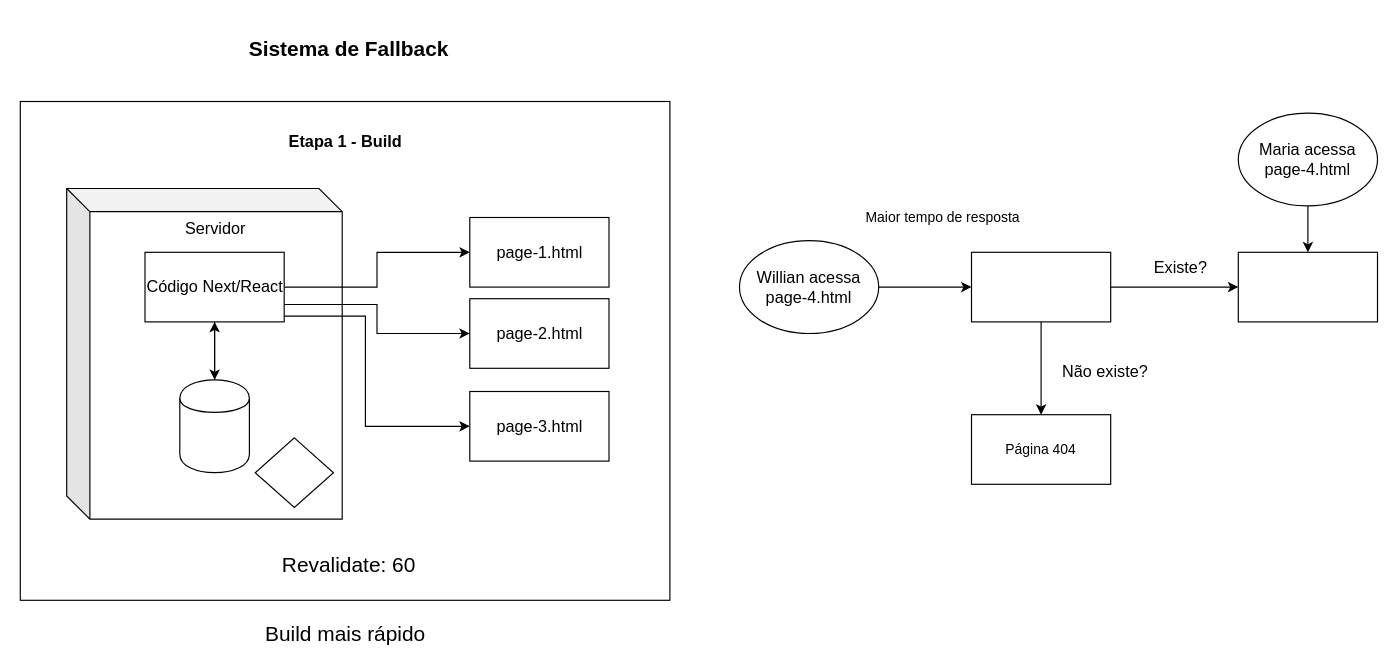
Image size: 1398x668. Some labels were removed from this diagram. The centre of each missing label's shape, as x and y in pixels:
"Banco de Dados" goes at (x=214, y=426).
"Dados da page-4" goes at (x=294, y=472).
"Fallback" goes at (x=1040, y=286).
"page-4.html" goes at (x=1307, y=286).
